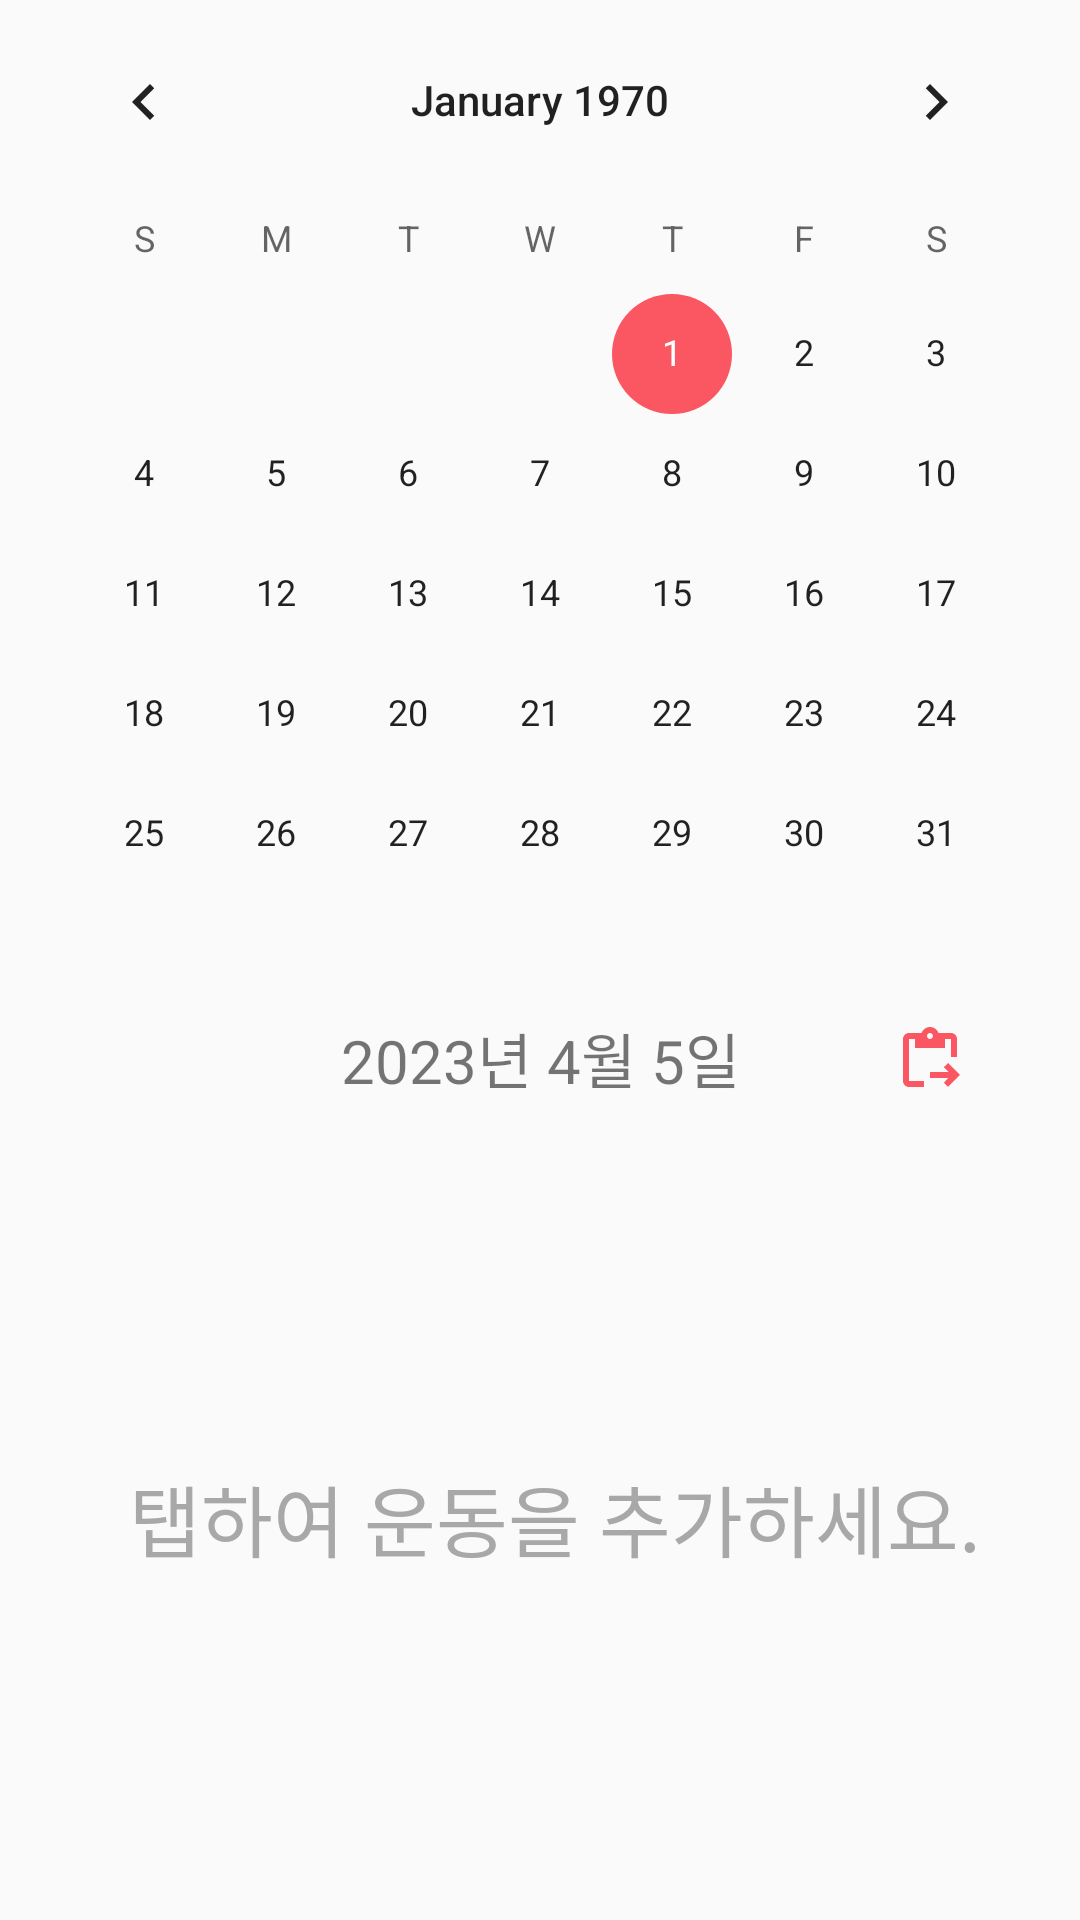

Icon bounding boxes for this 1080x1920 phone screenshot, format (x1, y1, x2, y2):
content paste go: (903, 1027, 960, 1087)
